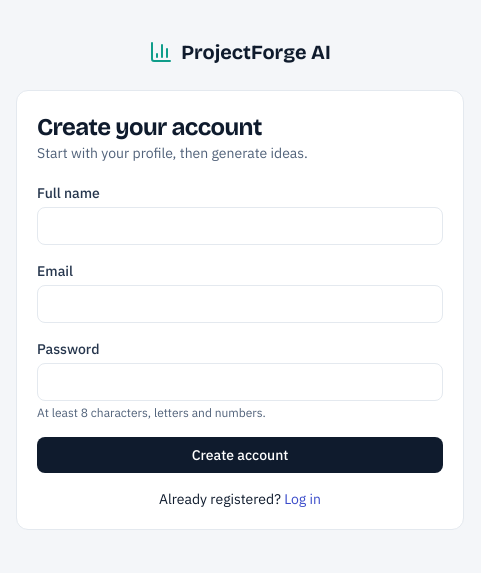
Scenario: register rejects weak passwords client-side
Step 1. Type "Alice" into the field labelled "Full name" → x=240, y=226, box x1=37 y1=207 x2=443 y2=245
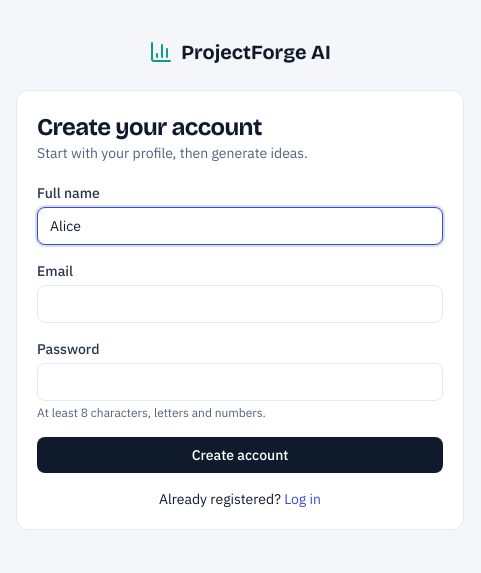
Step 2. Type "a@b.com" into the field labelled "Email" → x=240, y=304, box x1=37 y1=285 x2=443 y2=323
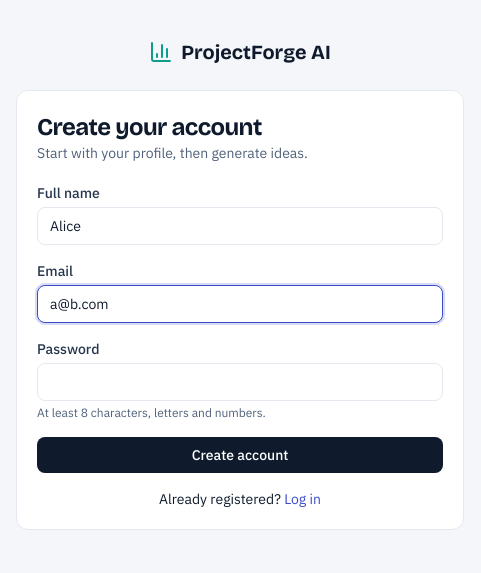
Step 3. Type "abcdefgh" into the password field labelled "Password" → x=240, y=382, box x1=37 y1=363 x2=443 y2=401
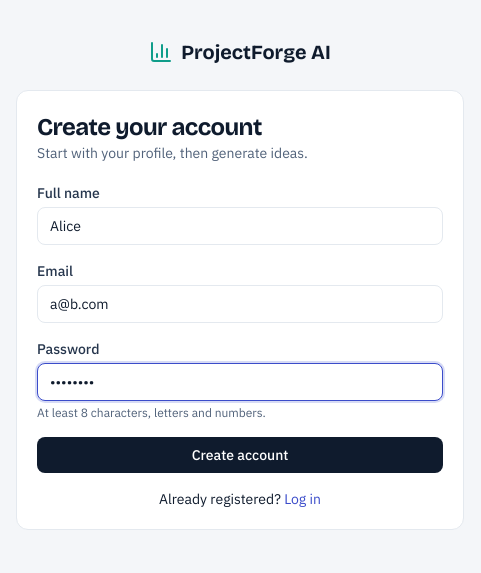
Step 4. Click the button "Create account" → x=240, y=455, box x1=37 y1=437 x2=443 y2=473
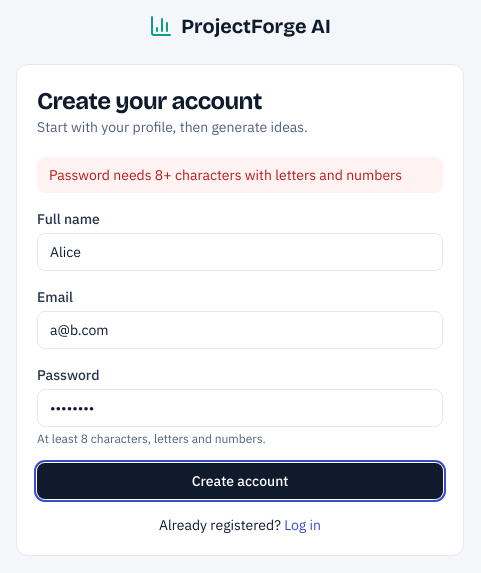
Check: the message shows "letters and numbers", box x1=49 y1=166 x2=402 y2=184
